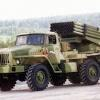MIL_SAM_TEL: (0, 20, 100, 90)
